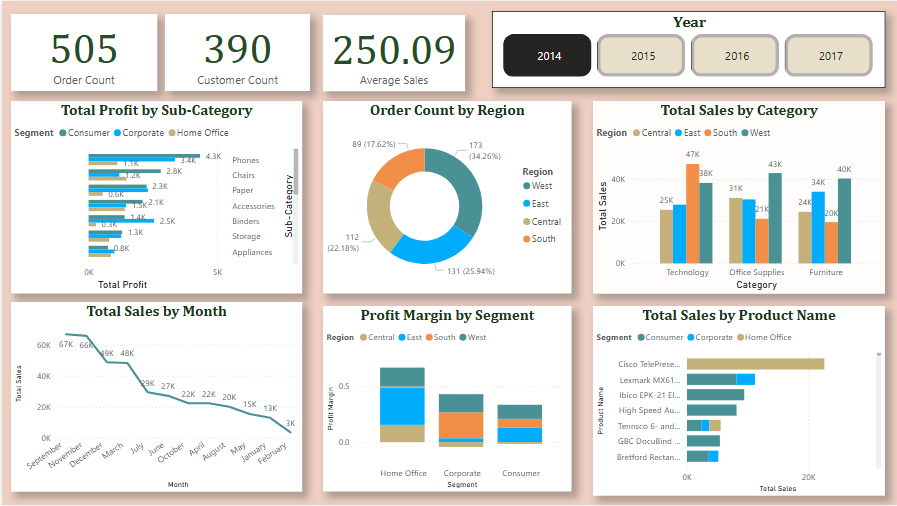

What the dashboard file says about the page in this screenshot:
{"tool":"powerbi","page":{"name":"Page 1","canvas":[1280,720],"ordinal":0},"visuals":[{"type":"clusteredColumnChart","title":"Total Sales by Category ","fields":{"Category":["Sample - Superstore.Category"],"Y":["Sample - Superstore.Total Sales"],"Series":["Sample - Superstore.Region"]},"box":[844.9,143.5,417.4,275.4],"z":0},{"type":"clusteredBarChart","title":"Total Profit by Sub-Category ","fields":{"Category":["Sample - Superstore.Sub-Category"],"Y":["Sample - Superstore.Total Profit"],"Series":["Sample - Superstore.Segment"]},"box":[13,143.5,415.9,275.4],"z":1000},{"type":"lineChart","fields":{"Category":["Sample - Superstore.Month"],"Y":["Sample - Superstore.Total Sales"]},"box":[13,430.4,415.9,271],"z":2000},{"type":"barChart","title":"Total Sales by Product Name","fields":{"Y":["Sample - Superstore.Total Sales"],"Category":["Sample - Superstore.Product Name"],"Series":["Sample - Superstore.Segment"]},"box":[844.9,436.2,417.4,271],"z":3000},{"type":"card","fields":{"Values":["Sample - Superstore.Order Count"]},"box":[13,18.8,208.7,110.1],"z":4000},{"type":"advancedSlicerVisual","fields":{"Values":["Sample - Superstore.Year"]},"box":[700,14.5,562.3,110.1],"z":5000},{"type":"card","fields":{"Values":["Sample - Superstore.Average Sales"]},"box":[458,20.3,202.9,108.7],"z":6000},{"type":"card","fields":{"Values":["Sample - Superstore.Customer Count"]},"box":[233.3,18.8,207.2,110.1],"z":7000},{"type":"donutChart","fields":{"Y":["Sample - Superstore.Order Count"],"Category":["Sample - Superstore.Region"]},"box":[458,143.5,355.1,275.4],"z":8000},{"type":"columnChart","title":"Profit Margin by Segment","fields":{"Category":["Sample - Superstore.Segment"],"Y":["Sample - Superstore.Profit Margin"],"Series":["Sample - Superstore.Region"]},"box":[458,436.2,355.1,265.2],"z":9000}]}

Visuals, with their boxes in screenshot pixels (x1, y1, x2, y2), scaled from the page's 1280x720 canvas onto the 897x506 screenshot:
"Total Sales by Category " clusteredColumnChart: [left=592, top=101, right=885, bottom=294]
"Total Profit by Sub-Category " clusteredBarChart: [left=9, top=101, right=301, bottom=294]
lineChart - Sample - Superstore.Month x Sample - Superstore.Total Sales: [left=9, top=302, right=301, bottom=493]
"Total Sales by Product Name" barChart: [left=592, top=307, right=885, bottom=497]
card - Sample - Superstore.Order Count: [left=9, top=13, right=155, bottom=91]
advancedSlicerVisual - Sample - Superstore.Year: [left=491, top=10, right=885, bottom=88]
card - Sample - Superstore.Average Sales: [left=321, top=14, right=463, bottom=91]
card - Sample - Superstore.Customer Count: [left=163, top=13, right=309, bottom=91]
donutChart - Sample - Superstore.Order Count x Sample - Superstore.Region: [left=321, top=101, right=570, bottom=294]
"Profit Margin by Segment" columnChart: [left=321, top=307, right=570, bottom=493]
